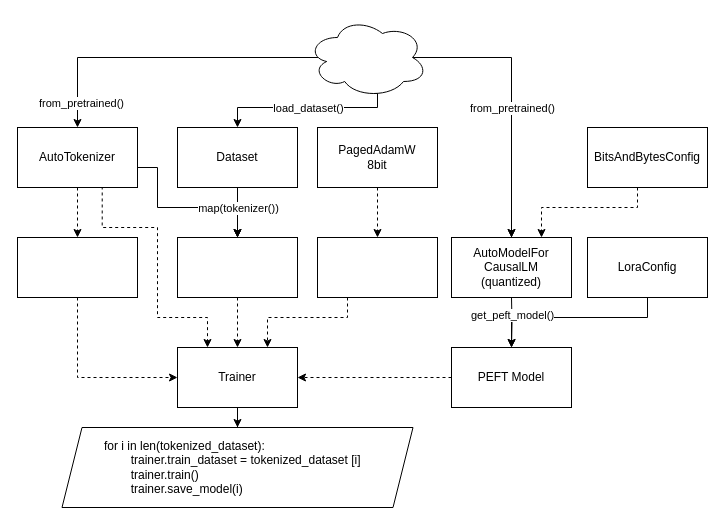
Image size: 725x526. Some labels were removed from this diagram. Here are the shapes that lost their labels. From the top down, the centre of each, then its label:
At point (367, 57): "huggingface".
At point (77, 267): "DataCollatorFor LanguageModelling".
At point (237, 267): "Tokenized Dataset (split into 100 chunks)".
At point (377, 267): "TrainingArguments".
